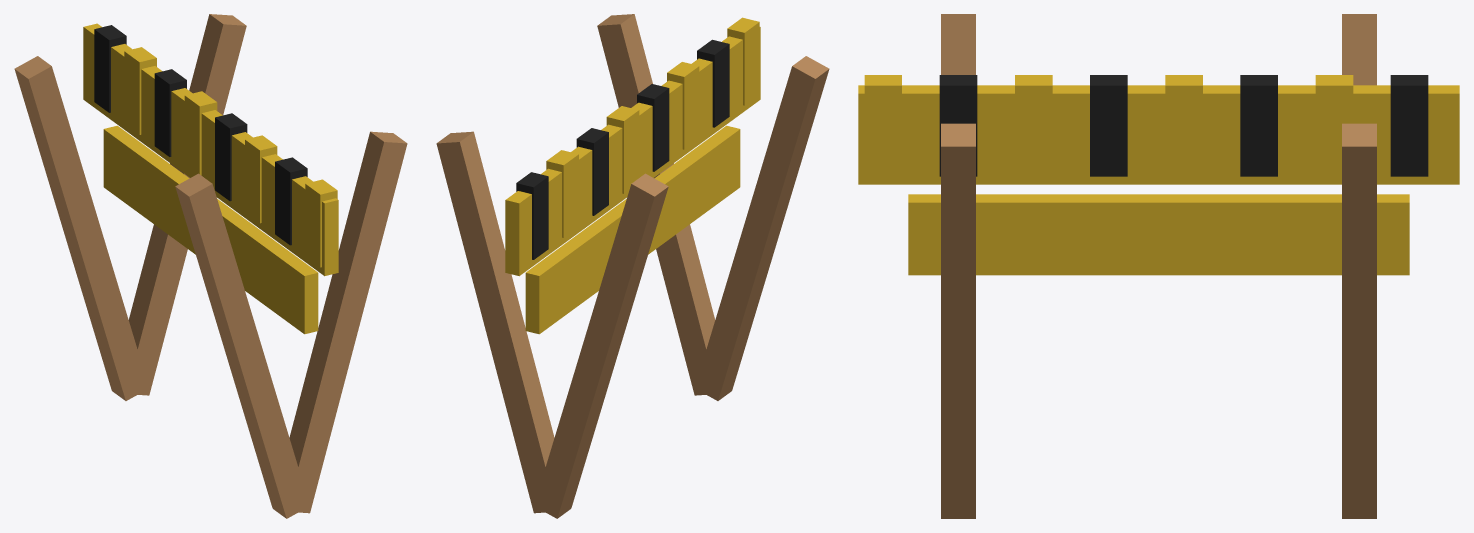
File: sawhorse.glb
3 views of the same model, side by side, from view 1: azimuth 30°, elevation 25°; view 2: azimuth 150°, elevation 25°; view 3: azimuth 270°, elevation 25° (orthographic). The views are drawn at different scales.
Parts seen in each view (by area): view 1: sawhorse; view 2: sawhorse; view 3: sawhorse.
Part boxes in pixels (bbox=[...]): sawhorse: bbox=[14, 14, 407, 518]; sawhorse: bbox=[436, 14, 829, 518]; sawhorse: bbox=[858, 14, 1459, 518].
Bounding box in the file's own units: 0.6271 × 0.9698 × 1.2.
